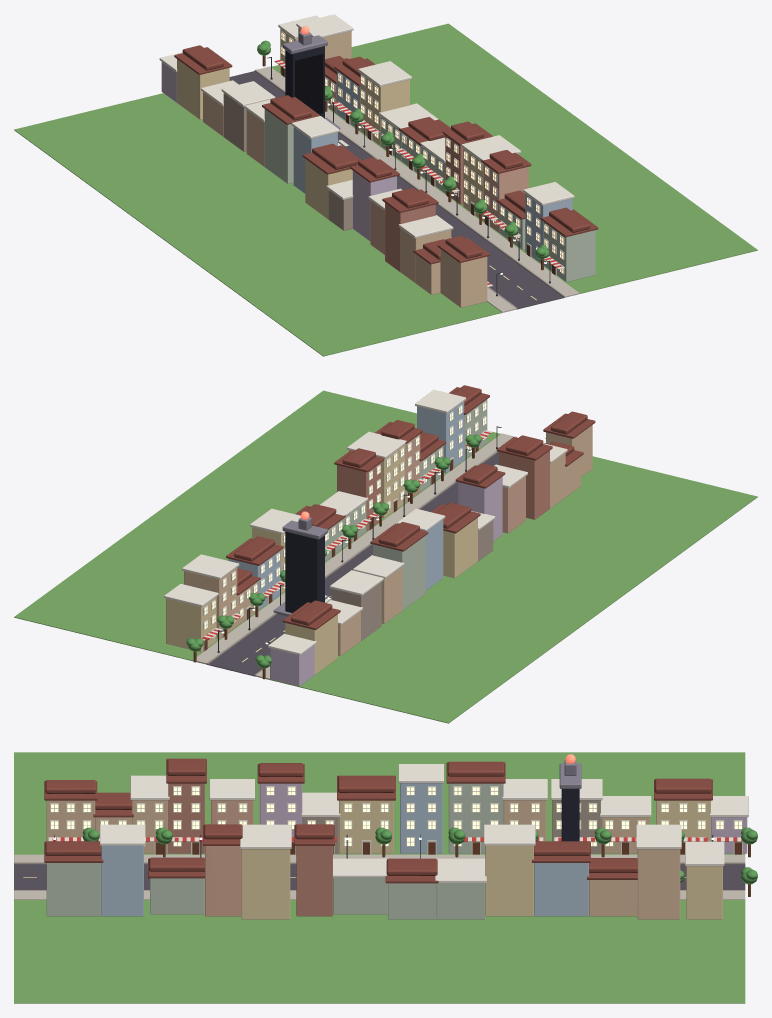
Rendered from town.glb.
3 renders of one model, top to bottom at view 1: azimuth 30°, elevation 25°; view 2: azimuth 150°, elevation 25°; view 3: azimuth 270°, elevation 25°, orthographic. The views are drawn at different scales.
Visible parts, largest first — view 1: Ground, Town, Tower, BoardScreen; view 2: Ground, Town, Tower; view 3: Town, Ground, Tower.
Boxes of the visible parts, bbox=[...] form: Ground: bbox=[14, 23, 757, 356]; Town: bbox=[159, 14, 598, 307]; Tower: bbox=[282, 26, 340, 129]; BoardScreen: bbox=[295, 54, 323, 113]; Ground: bbox=[14, 390, 757, 723]; Town: bbox=[164, 385, 595, 686]; Tower: bbox=[273, 511, 327, 616]; Town: bbox=[44, 758, 757, 919]; Ground: bbox=[14, 752, 745, 1003]; Tower: bbox=[559, 754, 581, 841].
Size of the model in its own units: 146 by 33.72 by 183.
